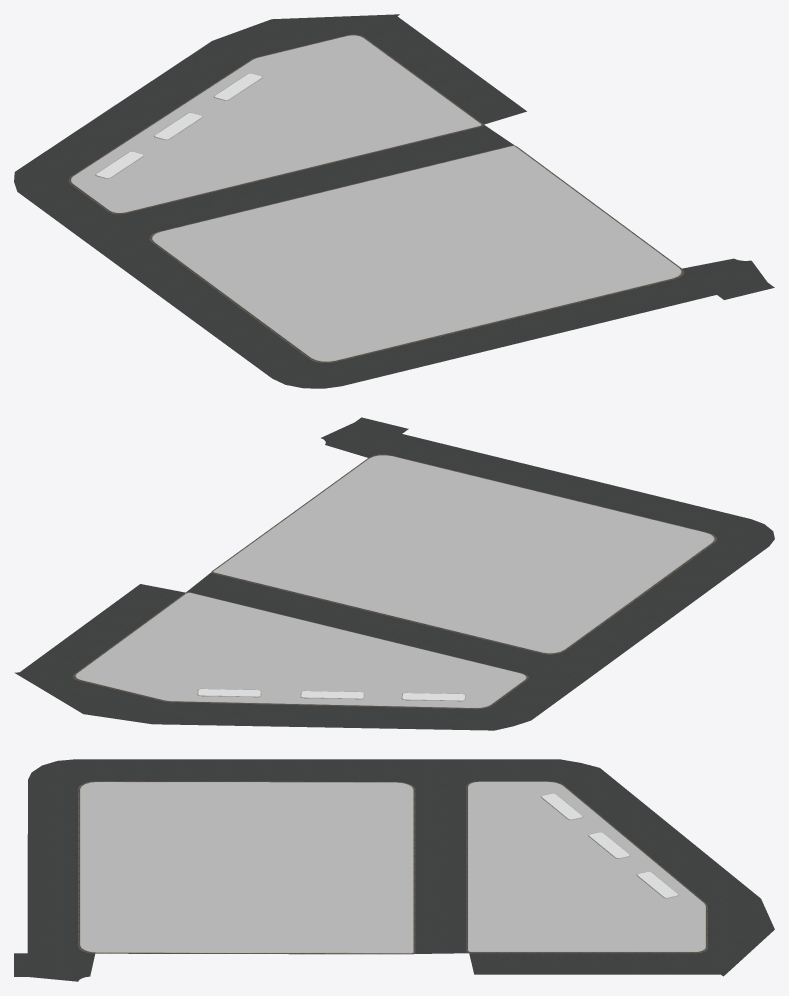
File: Island_Area_04.fbx
The picture shows the model from 3 angles, top to bottom: view 1: azimuth 30°, elevation 25°; view 2: azimuth 150°, elevation 25°; view 3: azimuth 270°, elevation 25°; orthographic projection. The views are drawn at different scales.
Parts seen in each view (by area): view 1: Island_Area_04; view 2: Island_Area_04; view 3: Island_Area_04.
Boxes of the visible parts, box(x1,y1,x2,y2) form: Island_Area_04: box(14, 14, 774, 388); Island_Area_04: box(14, 417, 774, 730); Island_Area_04: box(14, 759, 774, 981).
Size of the model in its own units: 17260 by 31.65 by 24949.
